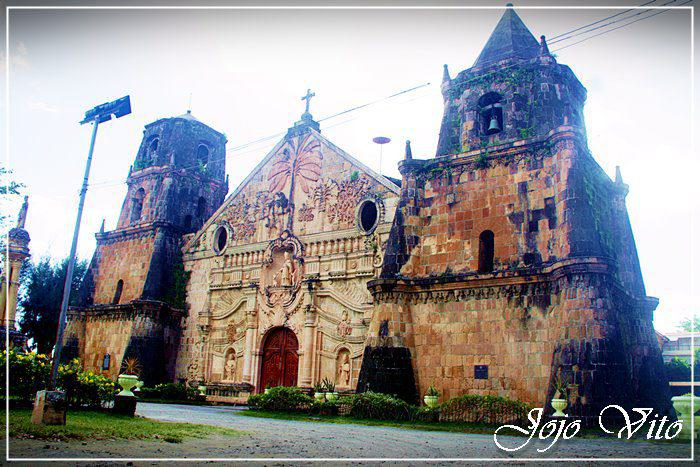Environmental Damage: (507, 68, 540, 143), (447, 70, 504, 89), (194, 159, 214, 181), (128, 159, 158, 173)
Miagao Church: (61, 5, 670, 431)
